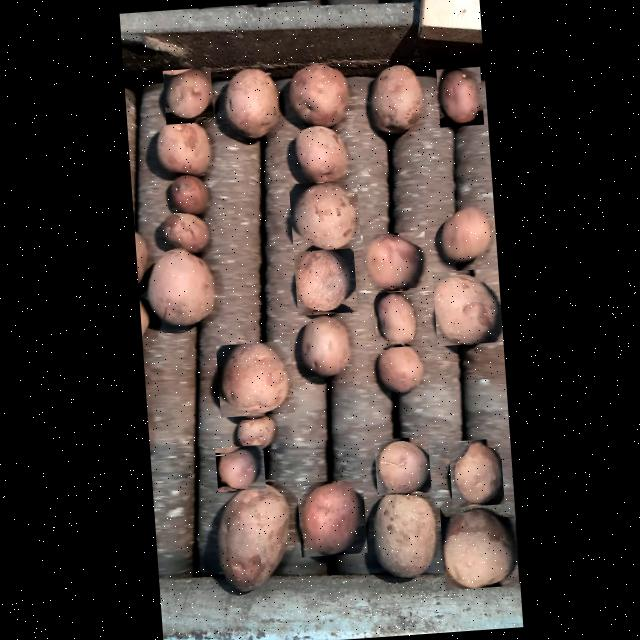Diseased-fungal potato: (206, 478, 292, 595), (366, 489, 441, 586), (438, 501, 518, 590), (143, 246, 220, 332), (214, 340, 294, 418), (431, 268, 502, 346), (296, 478, 366, 556), (287, 179, 360, 252), (217, 64, 281, 146), (279, 58, 351, 128), (362, 59, 424, 138), (292, 243, 356, 316), (292, 310, 356, 382), (153, 112, 215, 180), (446, 438, 504, 508), (287, 122, 350, 185), (434, 200, 494, 266), (361, 230, 427, 290), (372, 436, 430, 496), (435, 66, 483, 128), (161, 67, 213, 124), (371, 289, 421, 348), (156, 206, 213, 256), (375, 342, 426, 395), (213, 444, 264, 492), (165, 172, 215, 220), (228, 412, 279, 453)
